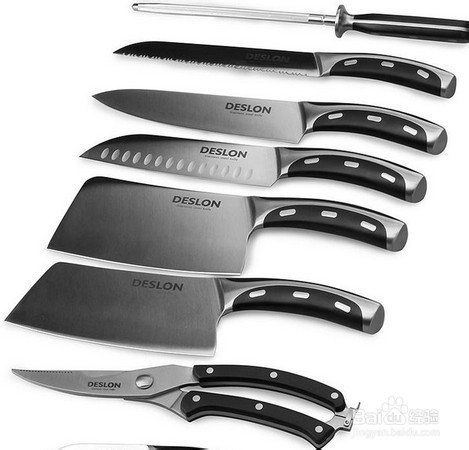knief: (12, 256, 397, 353)
